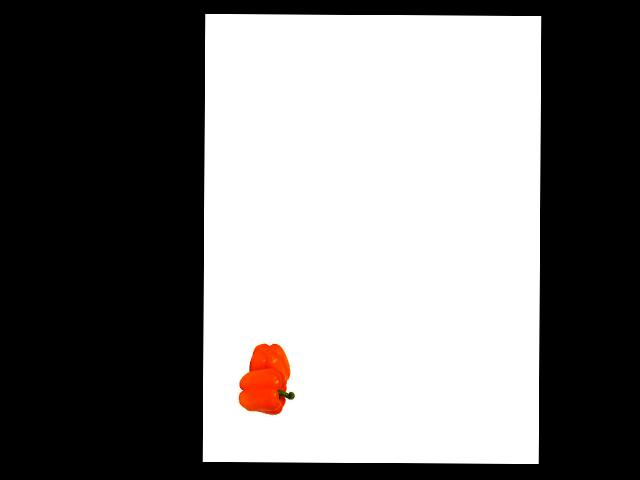bell_pepper: (243, 340, 291, 384)
